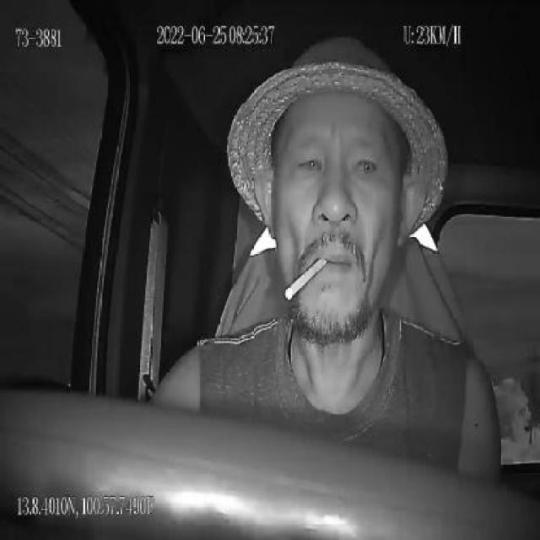smoking: (286, 256, 327, 304)
